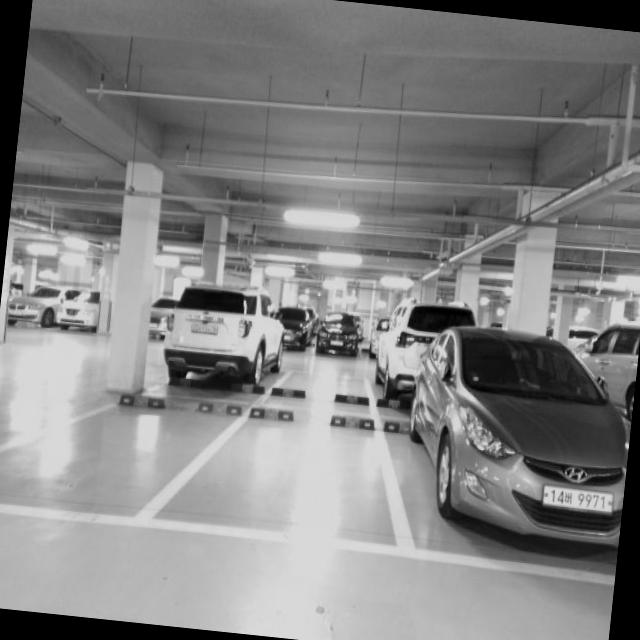car: (392, 317, 640, 553), (161, 280, 290, 396)
free: (62, 368, 224, 534), (220, 390, 393, 544)
